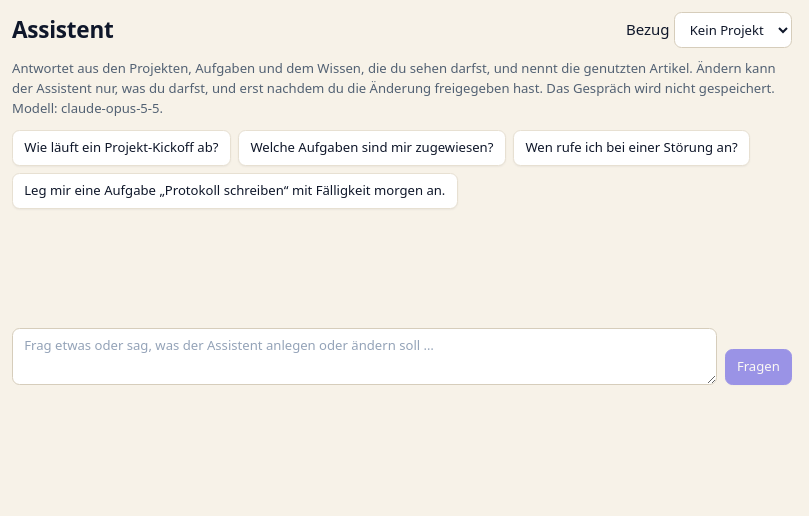
AssistantPage › drops a waiting change when the person asks something else
In the text box named "Deine Frage": (365, 356) [12,328,717,385], type "Lösch die Aufgabe"
Then press Enter
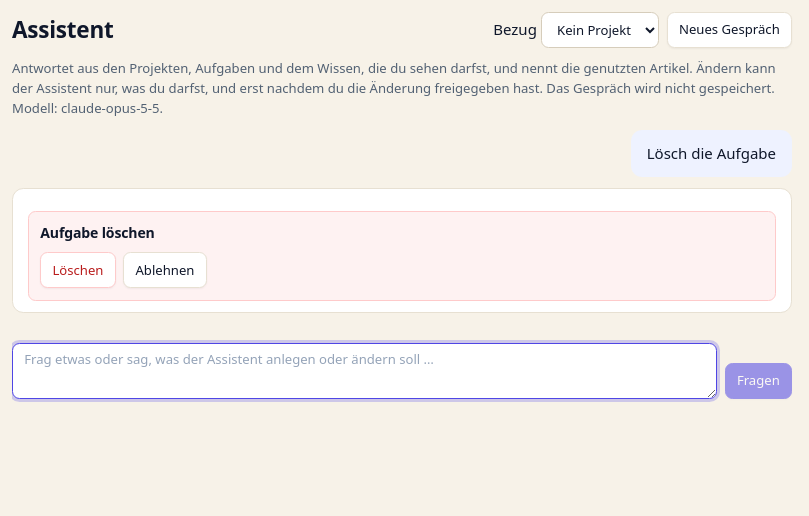
Check: the button "Löschen" is shown, box [40,252,116,288]
In the text box named "Deine Frage": (365, 371) [12,343,717,399], type "Doch nicht"
Then press Enter
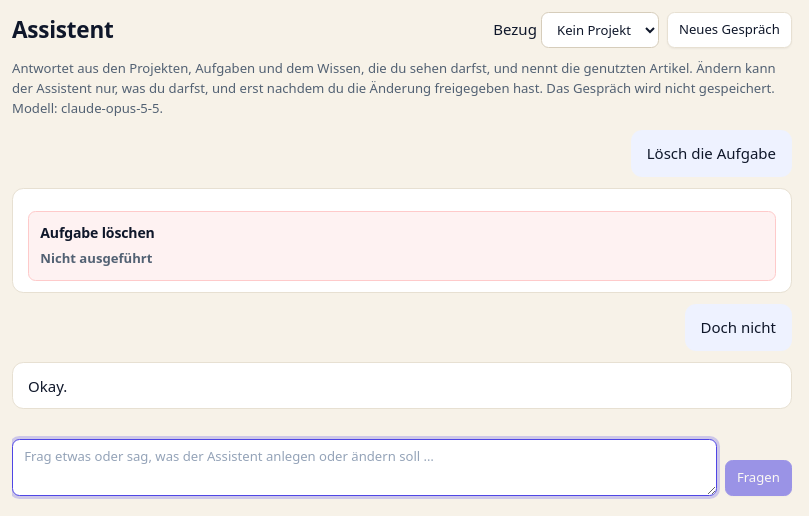
Check: the text "Nicht ausgeführt" is shown, box [40,249,152,267]
